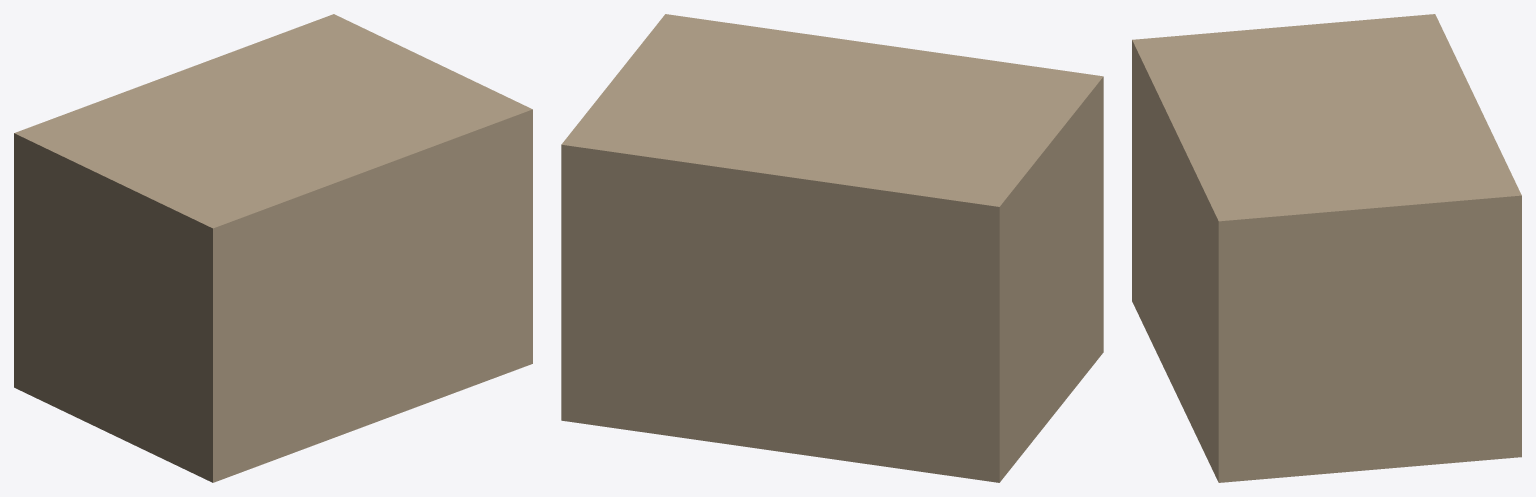
File: bld_101562396.dae
The picture shows the model from 3 angles, left to right: view 1: azimuth 30°, elevation 25°; view 2: azimuth 150°, elevation 25°; view 3: azimuth 270°, elevation 25°; orthographic projection. The views are drawn at different scales.
Parts seen in each view (by area): view 1: bld_101562396; view 2: bld_101562396; view 3: bld_101562396.
Part boxes in pixels (x1,y1,x2,y2): bld_101562396: (14, 14, 532, 482); bld_101562396: (561, 14, 1103, 482); bld_101562396: (1132, 14, 1521, 482).
Size of the model in its own units: 13.6 by 10.8 by 8.
